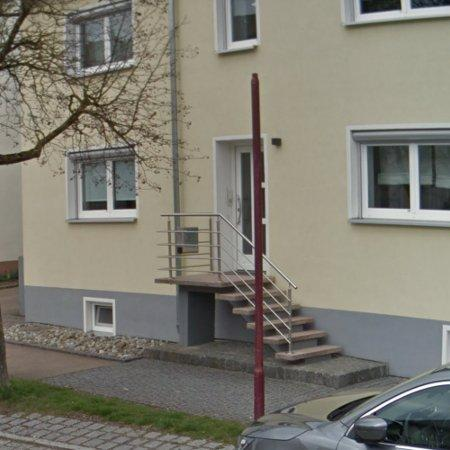stairs: (155, 213, 255, 345), (265, 256, 343, 363)
